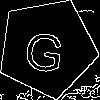G: (22, 22, 67, 74)
